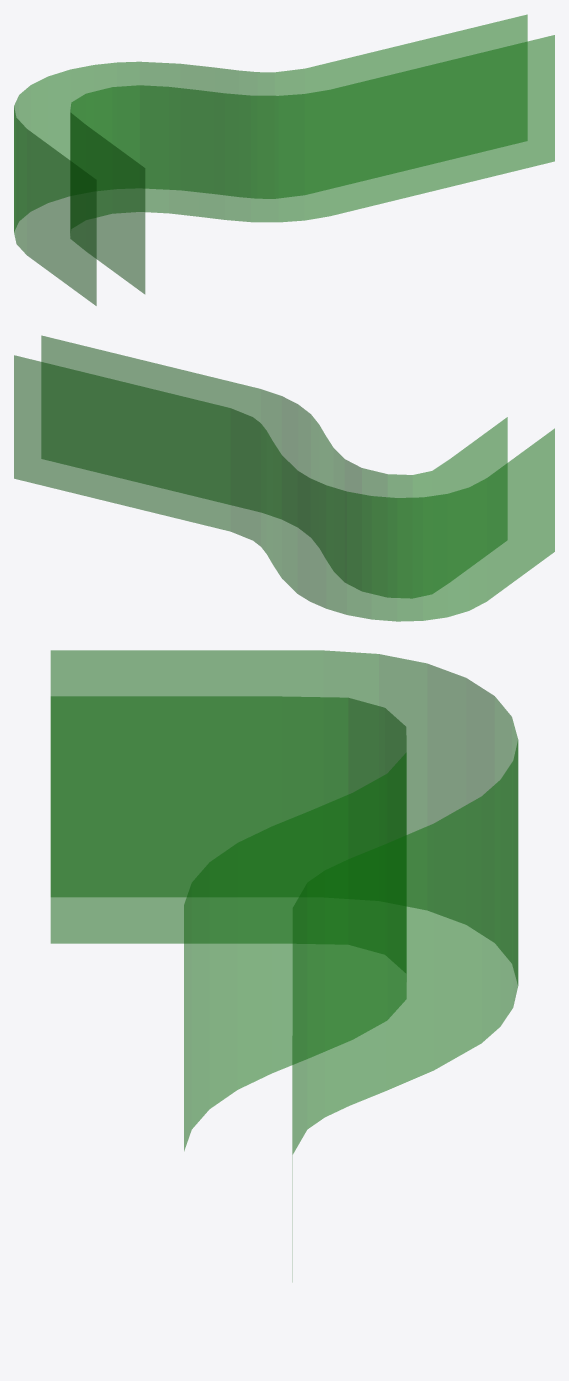
The model's file is D08_wall01.obj.
3 views of the same model, one above another, from view 1: azimuth 30°, elevation 25°; view 2: azimuth 150°, elevation 25°; view 3: azimuth 270°, elevation 25° (orthographic). The views are drawn at different scales.
Bounding box in the file's own units: 142 × 35 × 60.
